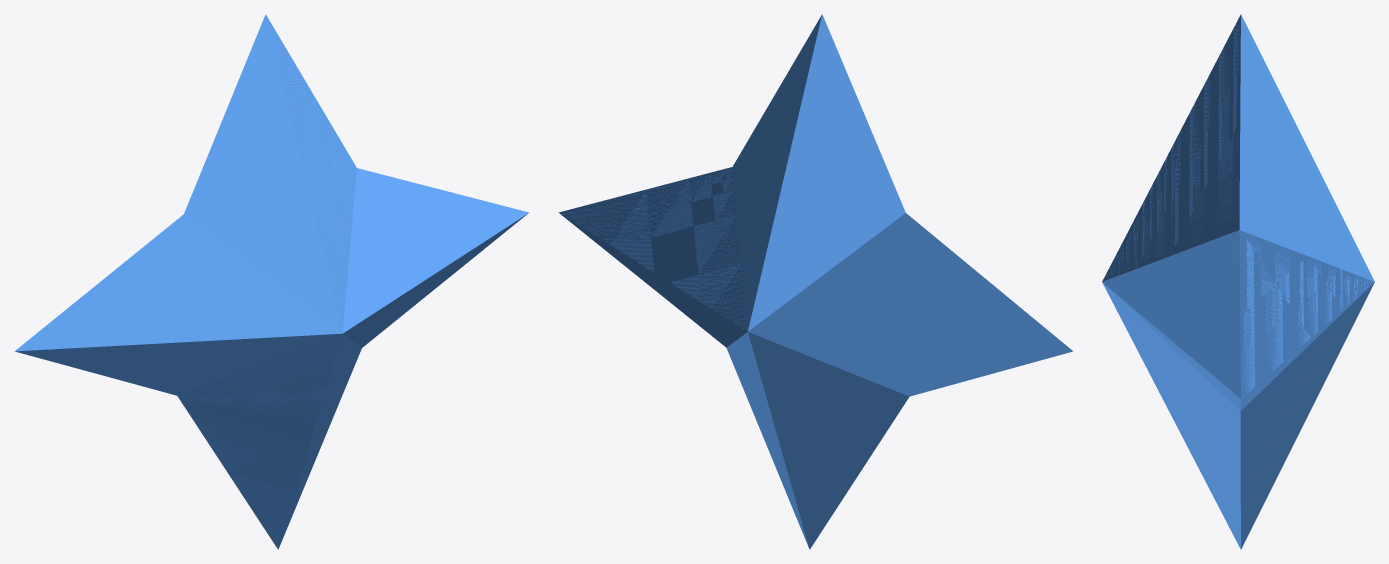
The model's file is star.obj.
3 renders of one model, left to right at view 1: azimuth 30°, elevation 25°; view 2: azimuth 150°, elevation 25°; view 3: azimuth 270°, elevation 25°, orthographic.
Visible parts, largest first — view 1: Cube; view 2: Cube; view 3: Cube.
Boxes of the visible parts, bbox=[...] form: Cube: bbox=[14, 14, 529, 549]; Cube: bbox=[558, 14, 1073, 549]; Cube: bbox=[1102, 14, 1374, 549].
Size of the model in its own units: 1.89 by 1.89 by 0.88.
Materials: 1 (1 with a texture image).
